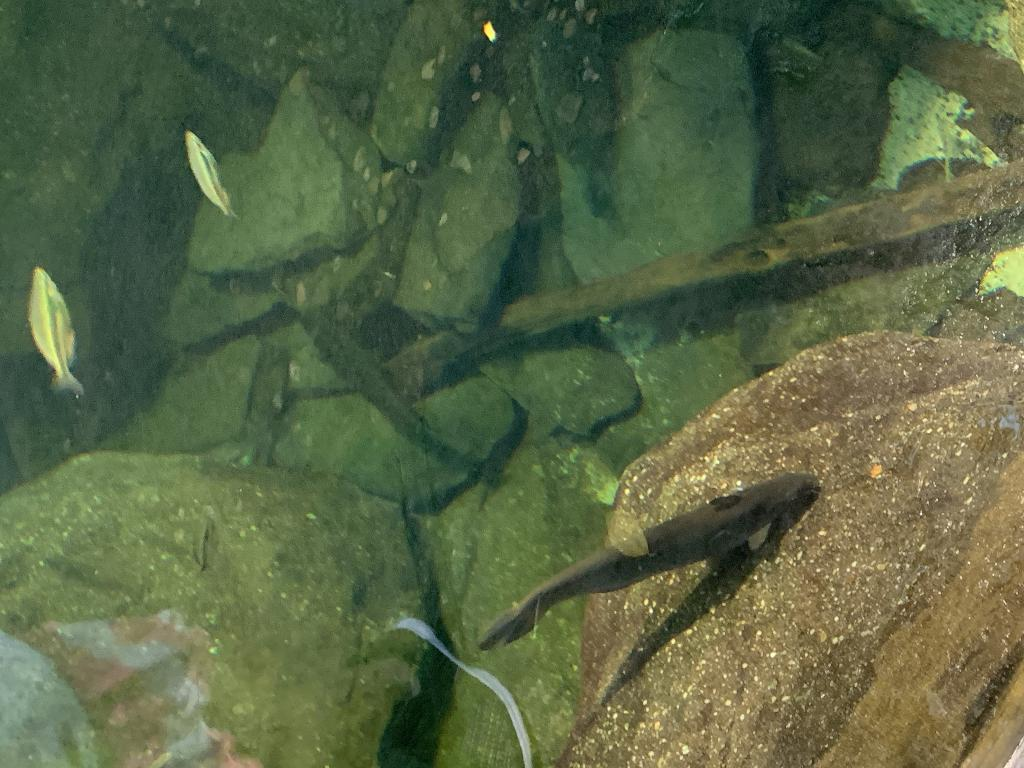fish: (475, 469, 823, 659), (26, 263, 88, 399), (178, 126, 244, 216)
